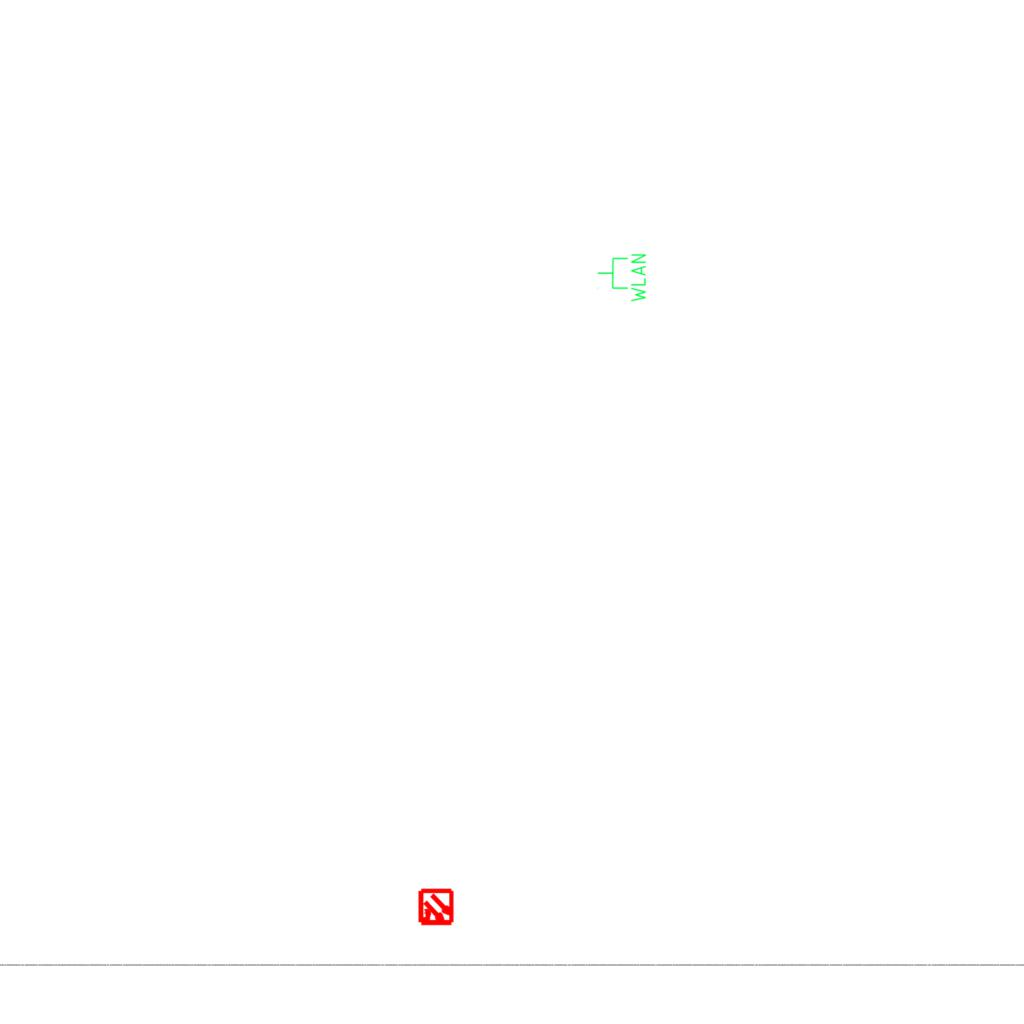OT_Multisensormelder_(Kombination_RMO_WMD): (408, 880, 464, 936)
WLAN: (596, 252, 648, 304)
